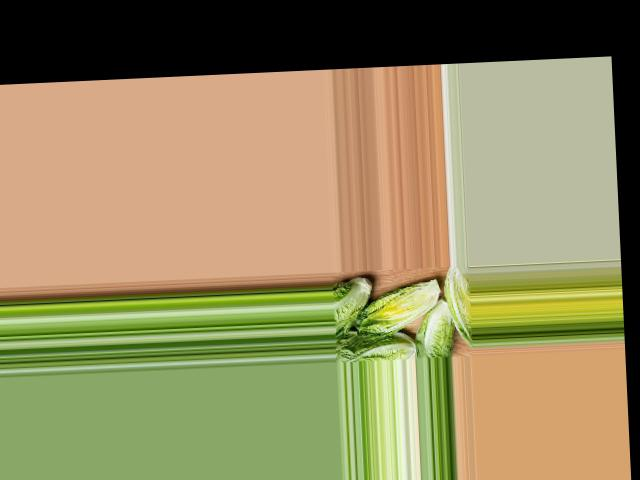lettuce: (441, 267, 473, 347)
